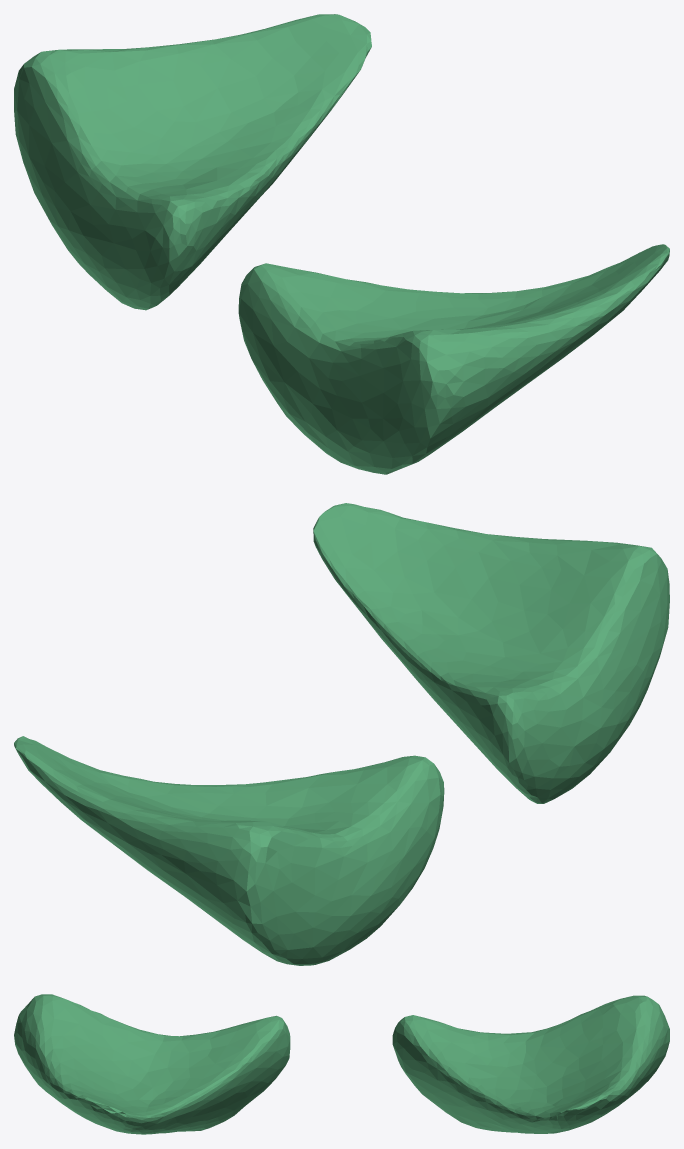
3 renders of one model, top to bottom at view 1: azimuth 30°, elevation 25°; view 2: azimuth 150°, elevation 25°; view 3: azimuth 270°, elevation 25°, orthographic. The views are drawn at different scales.
Visible parts, largest first — view 1: 184.obj; view 2: 184.obj; view 3: 184.obj.
Boxes of the visible parts, <box> form: 184.obj: <box>14,14,669,474</box>; 184.obj: <box>14,503,669,965</box>; 184.obj: <box>14,994,669,1134</box>.
Size of the model in its own units: 1577 by 839 by 3603.
